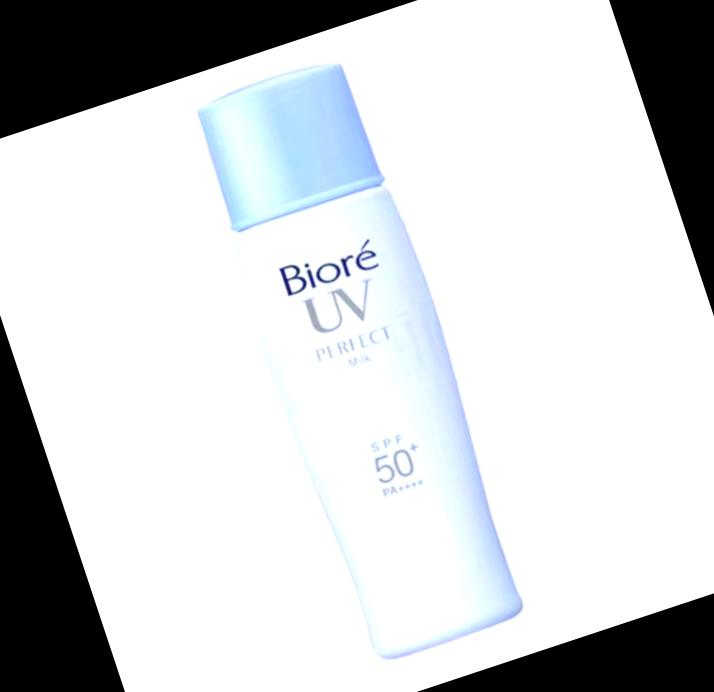cosmetic: (178, 49, 546, 667)
